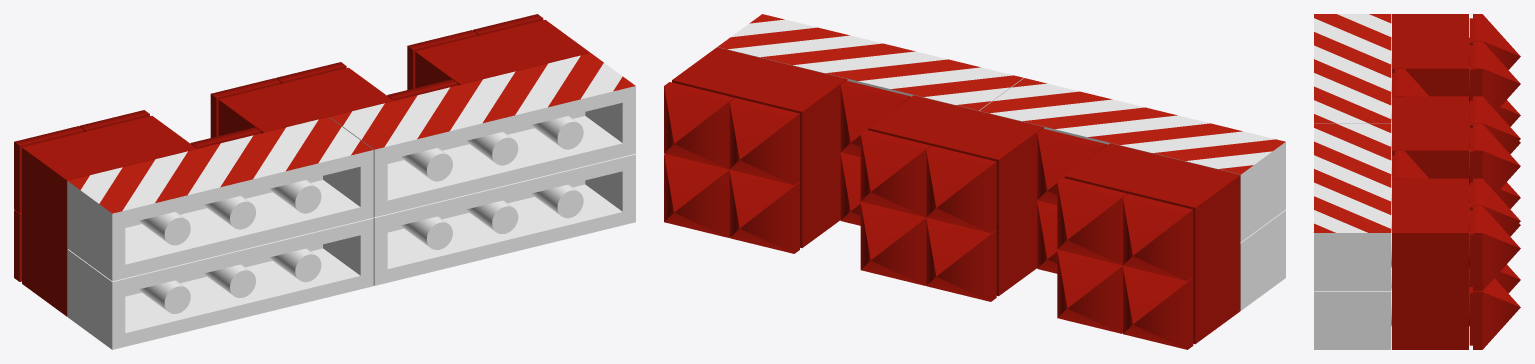
The model's file is danger.dae.
The picture shows the model from 3 angles, left to right: view 1: azimuth 30°, elevation 25°; view 2: azimuth 150°, elevation 25°; view 3: azimuth 270°, elevation 25°; orthographic projection. The views are drawn at different scales.
Parts seen in each view (by area): view 1: Inner-Node-danger_dot_io-22, Inner-Node-danger_dot_io-21, Inner-Node-danger_dot_io-19, Inner-Node-danger_dot_io-20, Inner-Node-danger_dot_io-0, Inner-Node-danger_dot_io-1, Inner-Node-danger_dot_io-2, Inner-Node-danger_dot_io-3, Inner-Node-danger_dot_io-16, Inner-Node-danger_dot_io-8, Inner-Node-danger_dot_io-4, Inner-Node-danger_dot_io-10 (+4 smaller); view 2: Inner-Node-danger_dot_io-22, Inner-Node-danger_dot_io-0, Inner-Node-danger_dot_io-21, Inner-Node-danger_dot_io-1, Inner-Node-danger_dot_io-2, Inner-Node-danger_dot_io-3, Inner-Node-danger_dot_io-16, Inner-Node-danger_dot_io-8, Inner-Node-danger_dot_io-10, Inner-Node-danger_dot_io-15, Inner-Node-danger_dot_io-7, Inner-Node-danger_dot_io-4 (+10 smaller); view 3: Inner-Node-danger_dot_io-2, Inner-Node-danger_dot_io-21, Inner-Node-danger_dot_io-22, Inner-Node-danger_dot_io-1, Inner-Node-danger_dot_io-0, Inner-Node-danger_dot_io-20, Inner-Node-danger_dot_io-17, Inner-Node-danger_dot_io-18, Inner-Node-danger_dot_io-6, Inner-Node-danger_dot_io-10, Inner-Node-danger_dot_io-8, Inner-Node-danger_dot_io-16 (+6 smaller).
Part boxes in pixels (<box>): Inner-Node-danger_dot_io-22: <box>67,117,373,281</box>; Inner-Node-danger_dot_io-21: <box>329,53,635,217</box>; Inner-Node-danger_dot_io-19: <box>67,218,373,349</box>; Inner-Node-danger_dot_io-20: <box>373,154,635,285</box>; Inner-Node-danger_dot_io-0: <box>22,116,196,316</box>; Inner-Node-danger_dot_io-1: <box>218,67,393,135</box>; Inner-Node-danger_dot_io-2: <box>415,19,590,87</box>; Inner-Node-danger_dot_io-3: <box>14,126,84,213</box>; Inner-Node-danger_dot_io-16: <box>407,30,477,89</box>; Inner-Node-danger_dot_io-8: <box>210,78,280,137</box>; Inner-Node-danger_dot_io-4: <box>14,210,21,281</box>; Inner-Node-danger_dot_io-10: <box>276,62,346,83</box>; Inner-Node-danger_dot_io-22: <box>980,78,1285,242</box>; Inner-Node-danger_dot_io-0: <box>1065,143,1240,344</box>; Inner-Node-danger_dot_io-21: <box>717,14,1023,111</box>; Inner-Node-danger_dot_io-1: <box>868,95,1043,296</box>; Inner-Node-danger_dot_io-2: <box>672,47,847,247</box>; Inner-Node-danger_dot_io-3: <box>1123,194,1193,281</box>; Inner-Node-danger_dot_io-16: <box>729,98,799,185</box>; Inner-Node-danger_dot_io-8: <box>926,146,996,233</box>; Inner-Node-danger_dot_io-10: <box>860,130,930,217</box>; Inner-Node-danger_dot_io-15: <box>729,170,799,253</box>; Inner-Node-danger_dot_io-7: <box>926,218,996,301</box>; Inner-Node-danger_dot_io-4: <box>1123,266,1193,349</box>; Inner-Node-danger_dot_io-2: <box>1392,178,1469,349</box>; Inner-Node-danger_dot_io-21: <box>1314,123,1391,291</box>; Inner-Node-danger_dot_io-22: <box>1314,14,1391,147</box>; Inner-Node-danger_dot_io-1: <box>1392,96,1469,201</box>; Inner-Node-danger_dot_io-0: <box>1392,14,1469,119</box>; Inner-Node-danger_dot_io-20: <box>1314,267,1391,349</box>; Inner-Node-danger_dot_io-17: <box>1469,206,1520,291</box>; Inner-Node-danger_dot_io-18: <box>1469,278,1520,349</box>; Inner-Node-danger_dot_io-6: <box>1469,41,1520,111</box>; Inner-Node-danger_dot_io-10: <box>1469,123,1520,193</box>; Inner-Node-danger_dot_io-8: <box>1469,96,1520,152</box>; Inner-Node-danger_dot_io-16: <box>1469,178,1520,234</box>.
Size of the model in its own units: 160 by 39.75 by 63.75.
